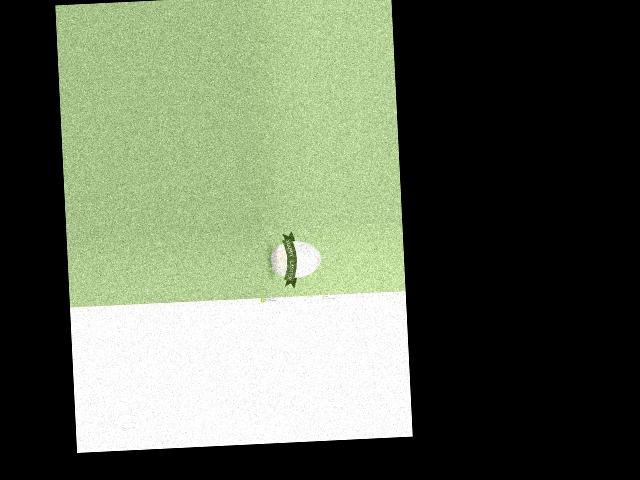egg: (269, 240, 321, 279)
